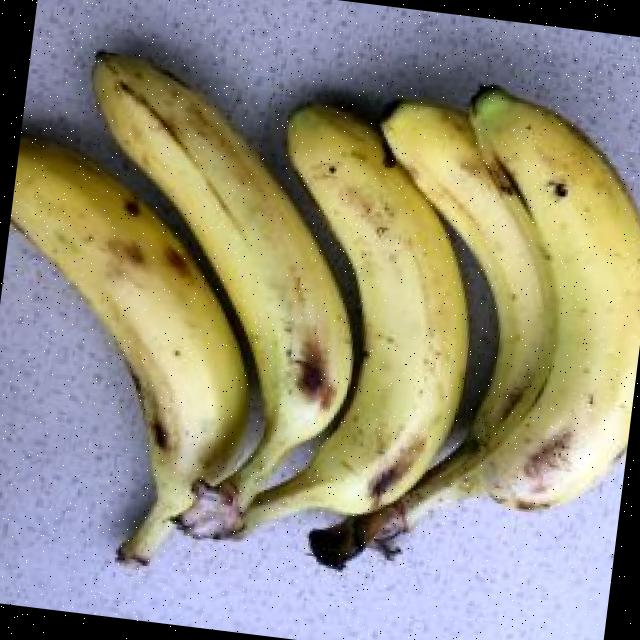banana: (314, 86, 640, 566), (91, 56, 354, 539), (181, 105, 465, 539), (9, 135, 248, 561)
